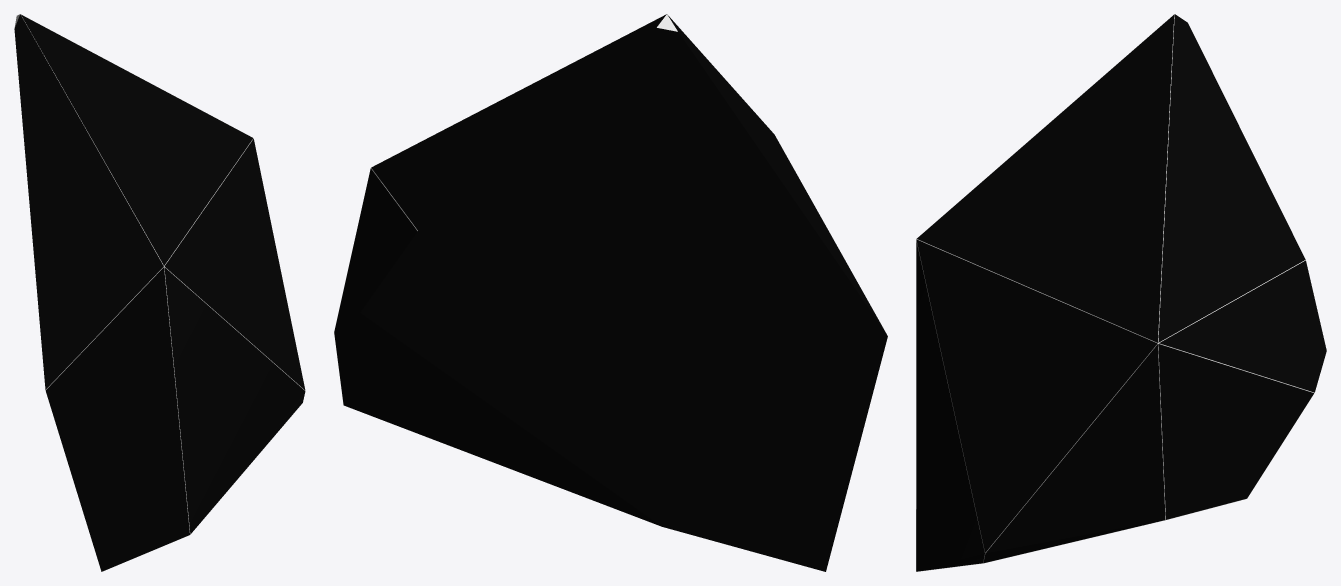
File: Project05.glb
3 views of the same model, side by side, from view 1: azimuth 30°, elevation 25°; view 2: azimuth 150°, elevation 25°; view 3: azimuth 270°, elevation 25° (orthographic). The views are drawn at different scales.
Visible parts, largest first — view 1: project01; view 2: project01; view 3: project01.
Boxes of the visible parts, bbox=[...] form: project01: bbox=[14, 14, 305, 571]; project01: bbox=[334, 14, 887, 571]; project01: bbox=[916, 14, 1326, 571].
Bounding box in the file's own units: 1.16 × 1.79 × 1.19.
2 materials, 1 textured.
